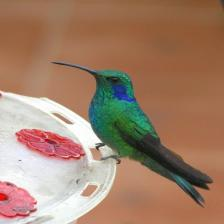Beak: (52, 62, 97, 75)
BirdBody: (53, 62, 213, 207)
Chest: (89, 97, 134, 157)
Foot: (100, 155, 121, 164), (95, 143, 106, 150)
Head: (53, 62, 136, 102)
SkyBGD: (1, 0, 224, 224)
Tail: (166, 169, 205, 208)
Wing: (114, 101, 213, 186)
WoodBGD: (0, 91, 116, 224)
